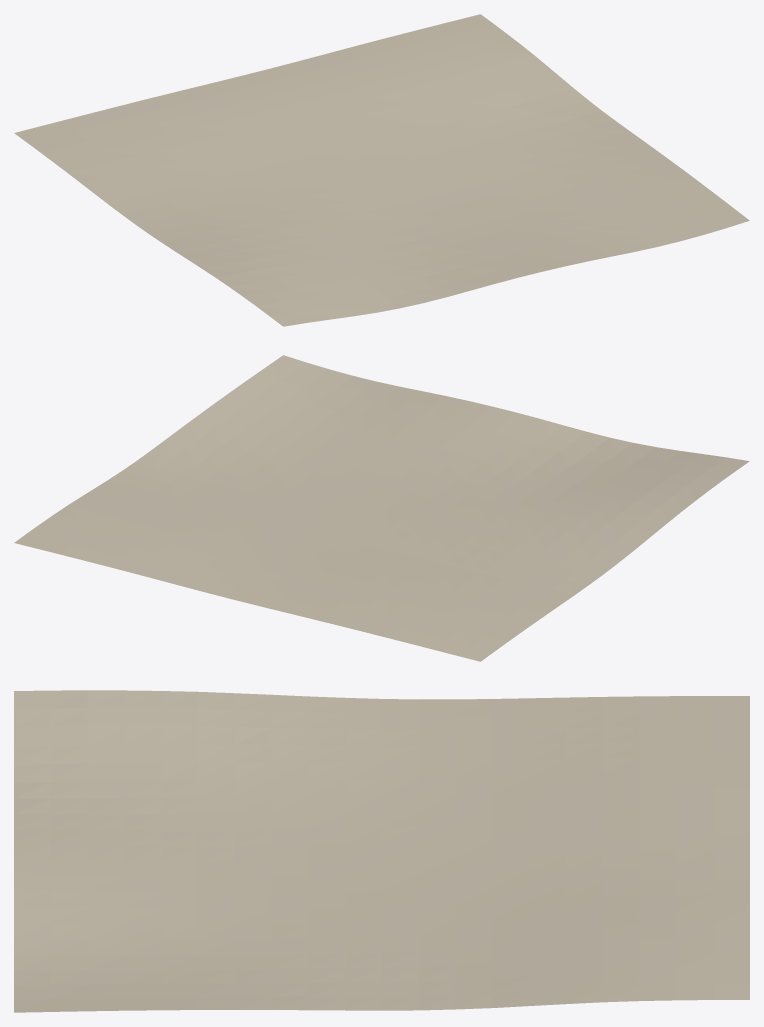
Rendered from bolak_-9_12.glb.
The picture shows the model from 3 angles, top to bottom: view 1: azimuth 30°, elevation 25°; view 2: azimuth 150°, elevation 25°; view 3: azimuth 270°, elevation 25°; orthographic projection. The views are drawn at different scales.
Visible parts, largest first — view 1: Yer_Tuproq-col; view 2: Yer_Tuproq-col; view 3: Yer_Tuproq-col.
Part boxes in pixels (box(x1,y1,x2,y2)): Yer_Tuproq-col: box(14, 14, 749, 326); Yer_Tuproq-col: box(14, 355, 749, 661); Yer_Tuproq-col: box(14, 690, 749, 1012).
Bounding box in the file's own units: 400 × 11 × 400.
